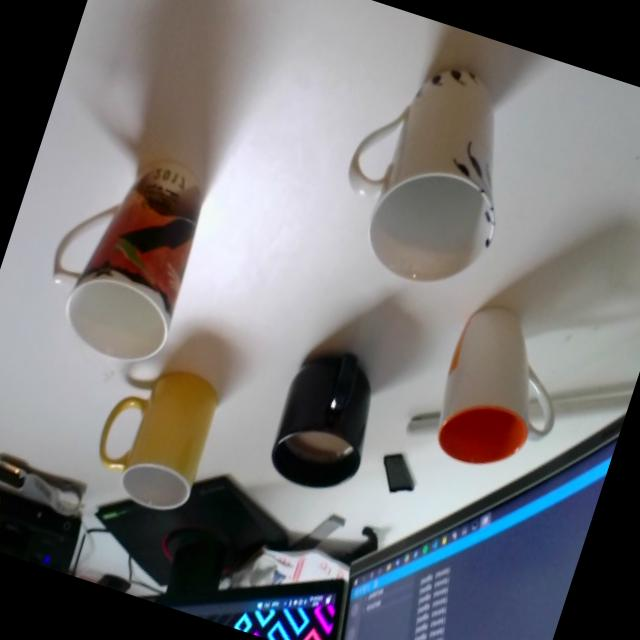Cocio Cup: (84, 353, 224, 518)
Cup: (260, 338, 390, 502)
Halloween cup: (29, 140, 220, 374)
Hand painted cup: (320, 41, 542, 302)
White Cup: (422, 298, 584, 487)
